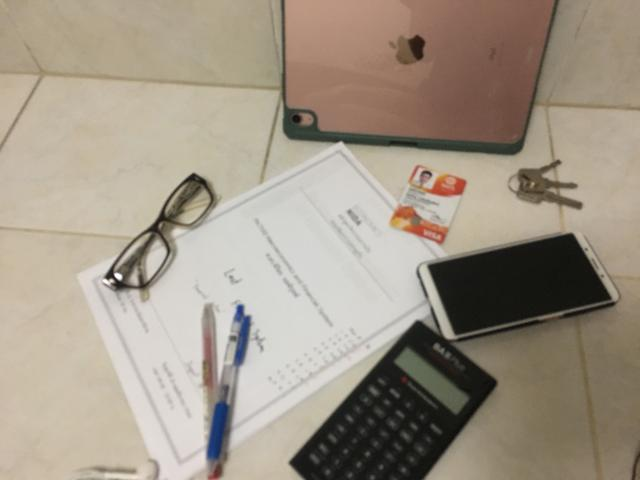Glasses: (103, 174, 218, 290)
Keys: (509, 161, 581, 208)
Mobile phone: (417, 233, 621, 343)
Pen: (204, 304, 252, 480), (201, 305, 230, 480)
